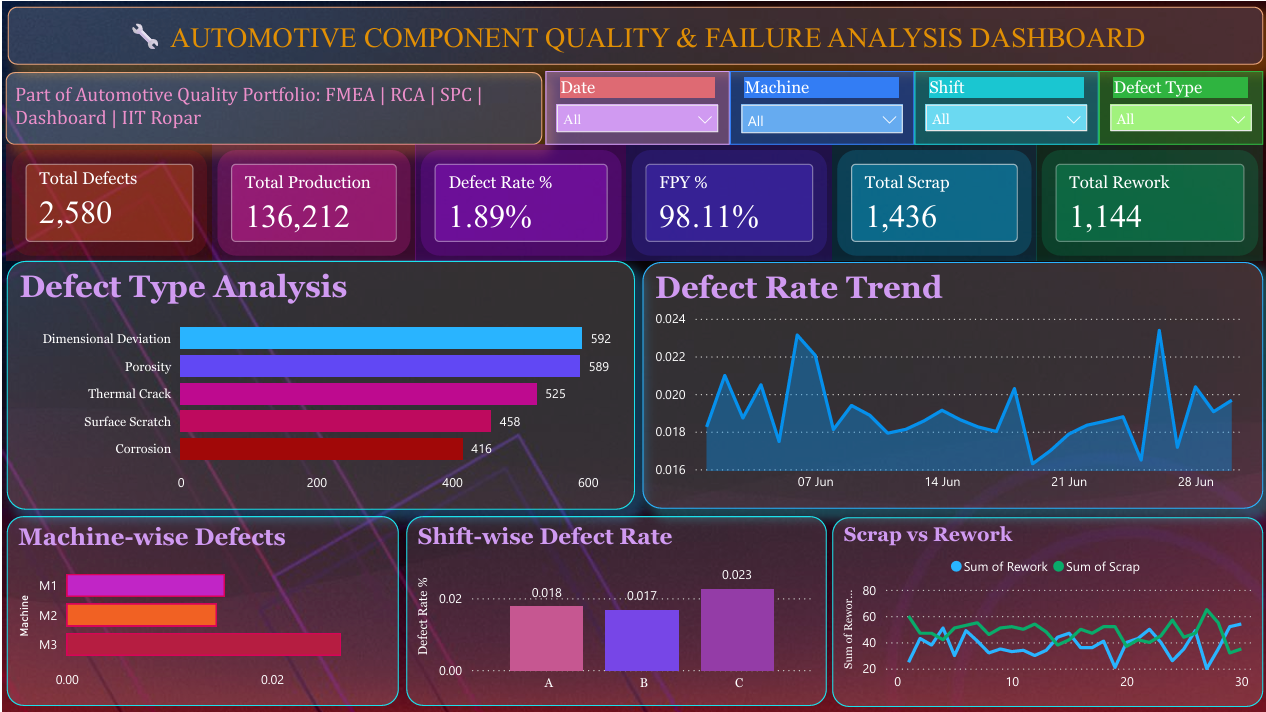

The dashboard page shown, as its layout file describes it:
{"tool":"powerbi","page":{"name":"Page 1","canvas":[1280,720],"ordinal":0},"visuals":[{"type":"lineChart","title":"Defect Rate Trend","fields":{"Category":["Raw Data.Date"],"Y":["Raw Data.Defect Rate %"]},"box":[647.4,267.2,588.5,233.8],"z":0},{"type":"textbox","box":[44.5,25.4,1191.4,54.1],"z":1000},{"type":"textbox","box":[43.3,86.7,508.7,69.3],"z":2000},{"type":"barChart","title":"Defect Type Analysis","fields":{"Category":["Raw Data.Defect Type"],"Y":["Sum(Raw Data.Defects)"]},"box":[44,266,596,236],"z":3000},{"type":"clusteredBarChart","title":"Machine-wise Defects","fields":{"Category":["Raw Data.Machine"],"Y":["Raw Data.Defect Rate %"]},"box":[44,508,372,180],"z":4000},{"type":"clusteredColumnChart","title":"Shift-wise Defect Rate","fields":{"Category":["Raw Data.Shift"],"Y":["Raw Data.Defect Rate %"]},"box":[423.3,508.3,398.3,180],"z":5000},{"type":"lineChart","title":"Scrap vs Rework","fields":{"Category":["Raw Data.Date.Variation.Date Hierarchy.Day"],"Y":["Sum(Raw Data.Rework)","Sum(Raw Data.Scrap)"]},"box":[827.1,509,408.8,179.7],"z":6000},{"type":"cardVisual","title":"Total Production","fields":{"Data":["Raw Data.Total Production"]},"box":[238.6,156.4,193.6,110],"z":7000},{"type":"cardVisual","fields":{"Data":["Raw Data.Total Defects"]},"box":[43.6,155.7,195,110],"z":8000},{"type":"cardVisual","fields":{"Data":["Raw Data.Defect Rate %"]},"box":[432.1,156.4,200,110],"z":9000},{"type":"cardVisual","fields":{"Data":["Raw Data.Total Scrap"]},"box":[827.1,156.4,194.3,110],"z":10000},{"type":"cardVisual","fields":{"Data":["Raw Data.Total Rework"]},"box":[1021.4,156.4,215,110],"z":11000},{"type":"cardVisual","fields":{"Data":["Raw Data.FPY %"]},"box":[632.1,156.4,195,110],"z":12000},{"type":"slicer","fields":{"Values":["Raw Data.Date"]},"box":[555,86.4,175,70],"z":13000},{"type":"slicer","fields":{"Values":["Raw Data.Machine"]},"box":[730,86.4,175,70],"z":14000},{"type":"slicer","fields":{"Values":["Raw Data.Shift"]},"box":[905,86.4,175,69.3],"z":15000},{"type":"slicer","fields":{"Values":["Raw Data.Defect Type"]},"box":[1080,86.4,156.4,69.3],"z":16000}]}

Visuals, with their boxes in screenshot pixels (x1, y1, x2, y2), scaled from the page's 1280x720 canvas onto the 1266x712 screenshot:
"Defect Rate Trend" lineChart: 640:264:1222:495
textbox: 44:25:1222:79
textbox: 43:86:546:154
"Defect Type Analysis" barChart: 44:263:633:496
"Machine-wise Defects" clusteredBarChart: 44:502:411:680
"Shift-wise Defect Rate" clusteredColumnChart: 419:503:813:681
"Scrap vs Rework" lineChart: 818:503:1222:681
"Total Production" cardVisual: 236:155:427:263
cardVisual - Raw Data.Total Defects: 43:154:236:263
cardVisual - Raw Data.Defect Rate %: 427:155:625:263
cardVisual - Raw Data.Total Scrap: 818:155:1010:263
cardVisual - Raw Data.Total Rework: 1010:155:1223:263
cardVisual - Raw Data.FPY %: 625:155:818:263
slicer - Raw Data.Date: 549:85:722:155
slicer - Raw Data.Machine: 722:85:895:155
slicer - Raw Data.Shift: 895:85:1068:154
slicer - Raw Data.Defect Type: 1068:85:1223:154
